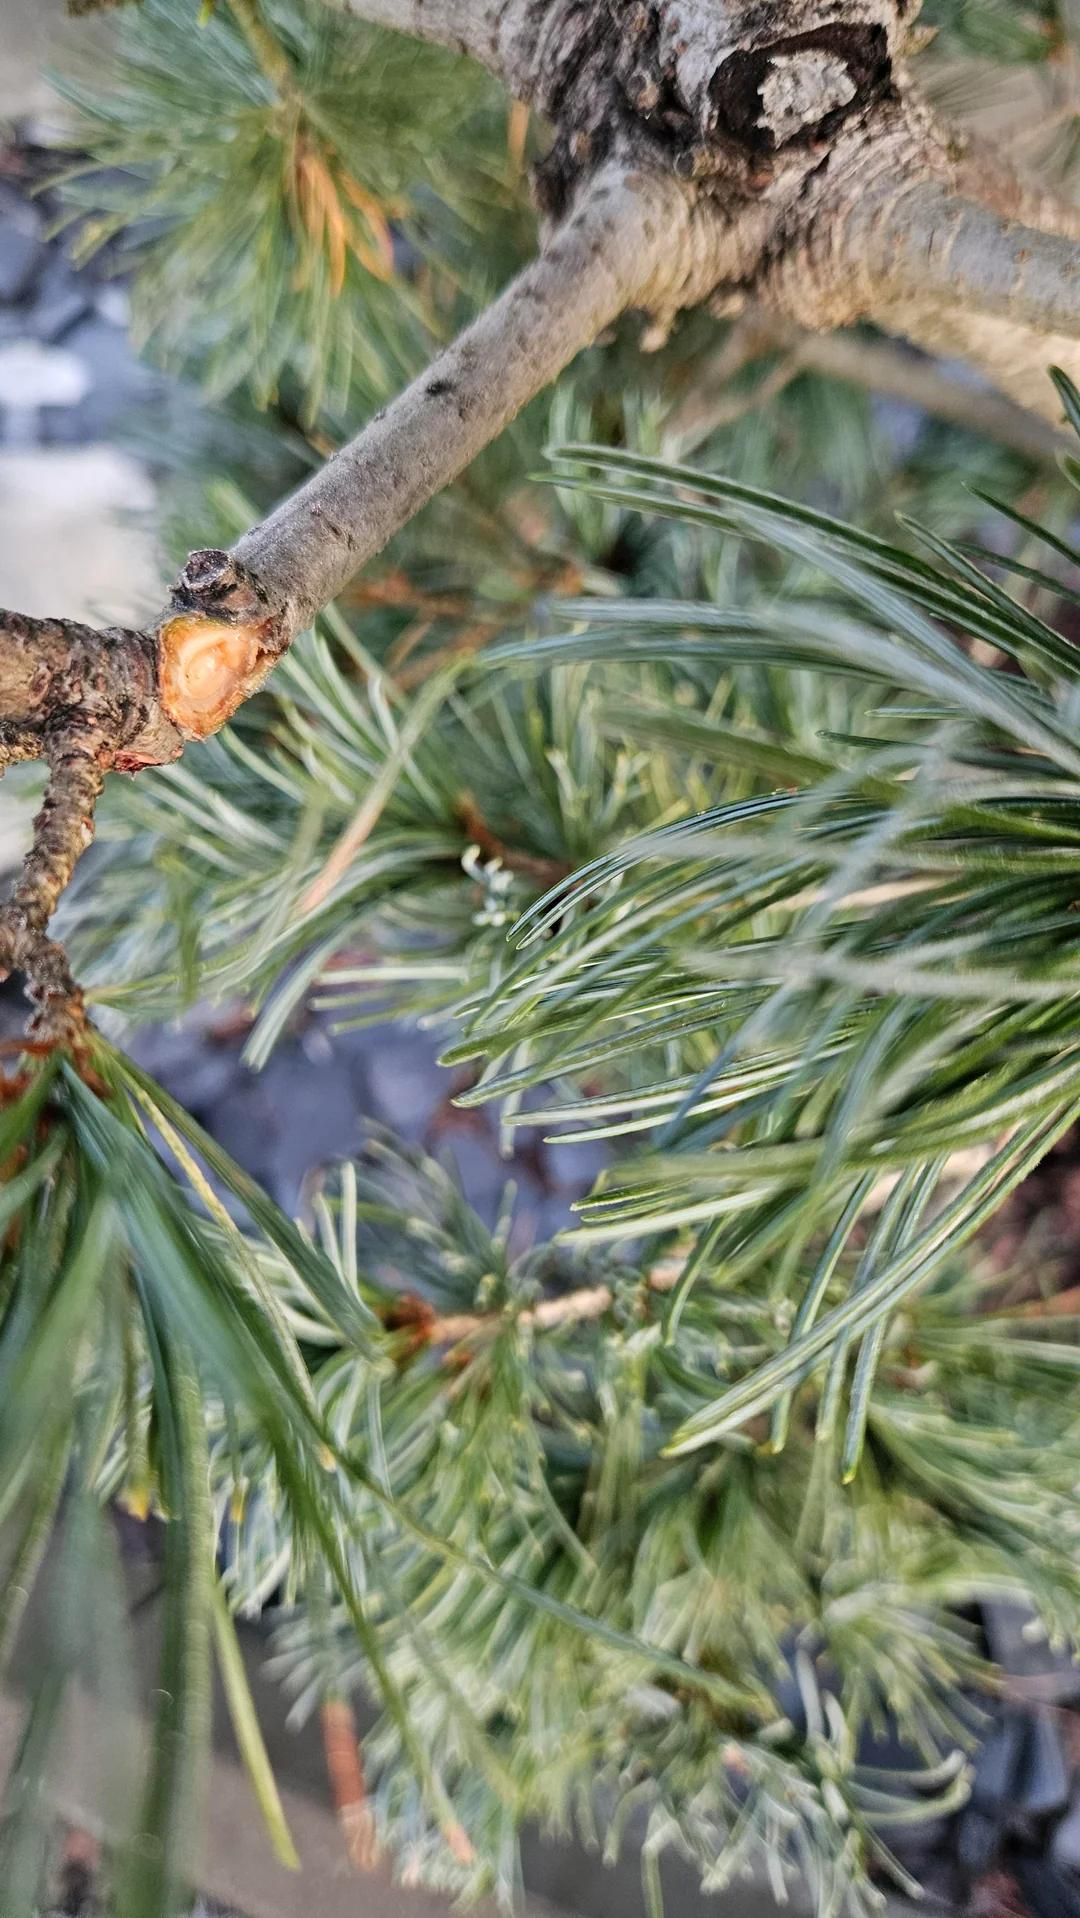mechanical damage: (161, 615, 258, 736)
